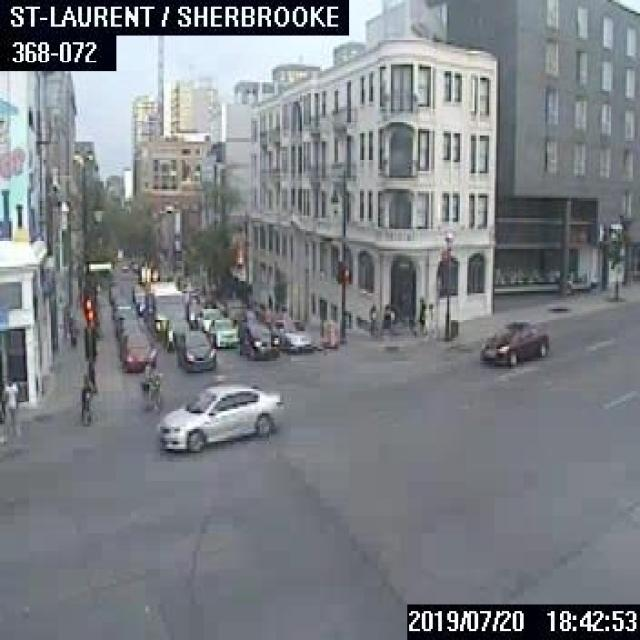bus: (148, 281, 184, 334)
construction: (323, 313, 336, 347)
pedestrian: (140, 361, 162, 413), (2, 374, 16, 422), (79, 374, 91, 424), (414, 294, 426, 334), (424, 300, 434, 337), (366, 302, 376, 336), (68, 317, 77, 344)
vehicle: (154, 380, 282, 449), (480, 316, 547, 364), (176, 329, 215, 371), (238, 321, 278, 358), (274, 316, 311, 354), (120, 332, 157, 368), (208, 316, 238, 349), (164, 316, 189, 350), (196, 306, 218, 332)
